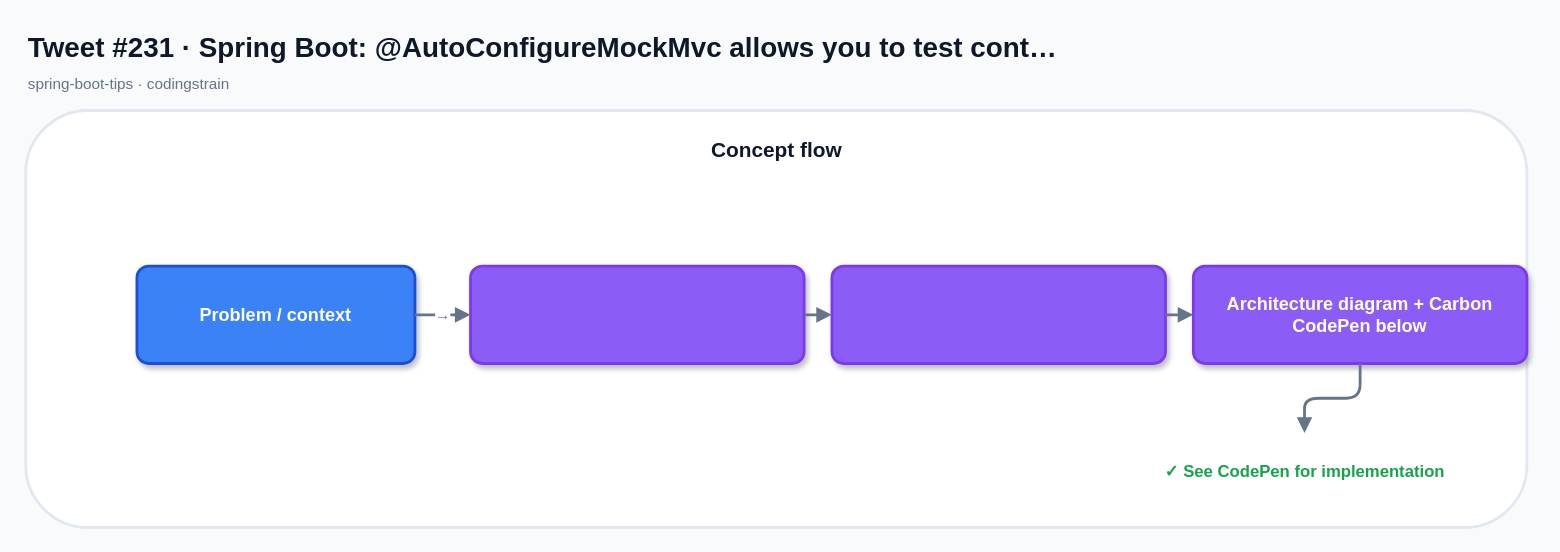
Some shapes in this 1560 by 552 pixel diagram are drawn without their labels. Here are the shapes that lost their labels. From the top down, the centre of each, then its label:
the point at 638,316: #SpringBoot #Java
the point at 999,316: Runnable sample: `spring-boot-tips`
